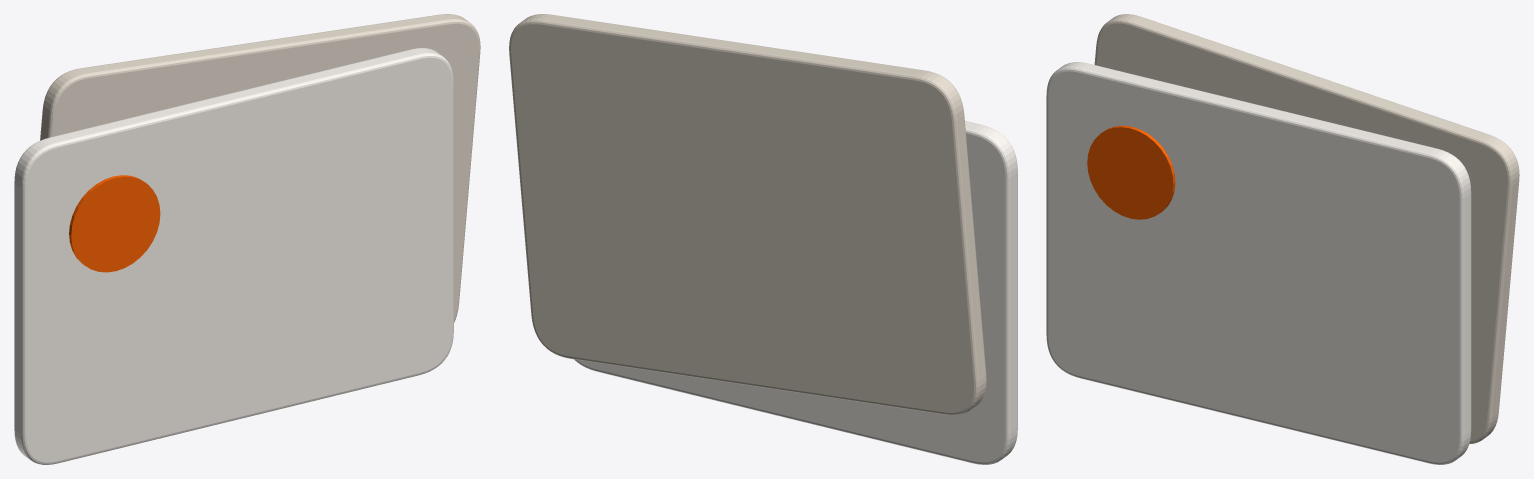
Rendered from research-dossier.glb.
The picture shows the model from 3 angles, left to right: view 1: azimuth 30°, elevation 25°; view 2: azimuth 150°, elevation 25°; view 3: azimuth 330°, elevation 25°; orthographic projection. The views are drawn at different scales.
Visible parts, largest first — view 1: dossier_front_sheet, dossier_back_sheet, dossier_avatar_seal; view 2: dossier_back_sheet, dossier_front_sheet; view 3: dossier_front_sheet, dossier_back_sheet, dossier_avatar_seal.
Part boxes in pixels (box(x1,y1,x2,y2)): dossier_front_sheet: box(14, 48, 453, 464); dossier_back_sheet: box(40, 14, 480, 322); dossier_avatar_seal: box(69, 175, 160, 272); dossier_back_sheet: box(509, 14, 986, 415); dossier_front_sheet: box(574, 120, 1017, 464); dossier_front_sheet: box(1046, 62, 1471, 464); dossier_back_sheet: box(1094, 14, 1519, 443); dossier_avatar_seal: box(1087, 125, 1175, 219).
Bounding box in the file's own units: 2.32 × 1.75 × 0.206.
